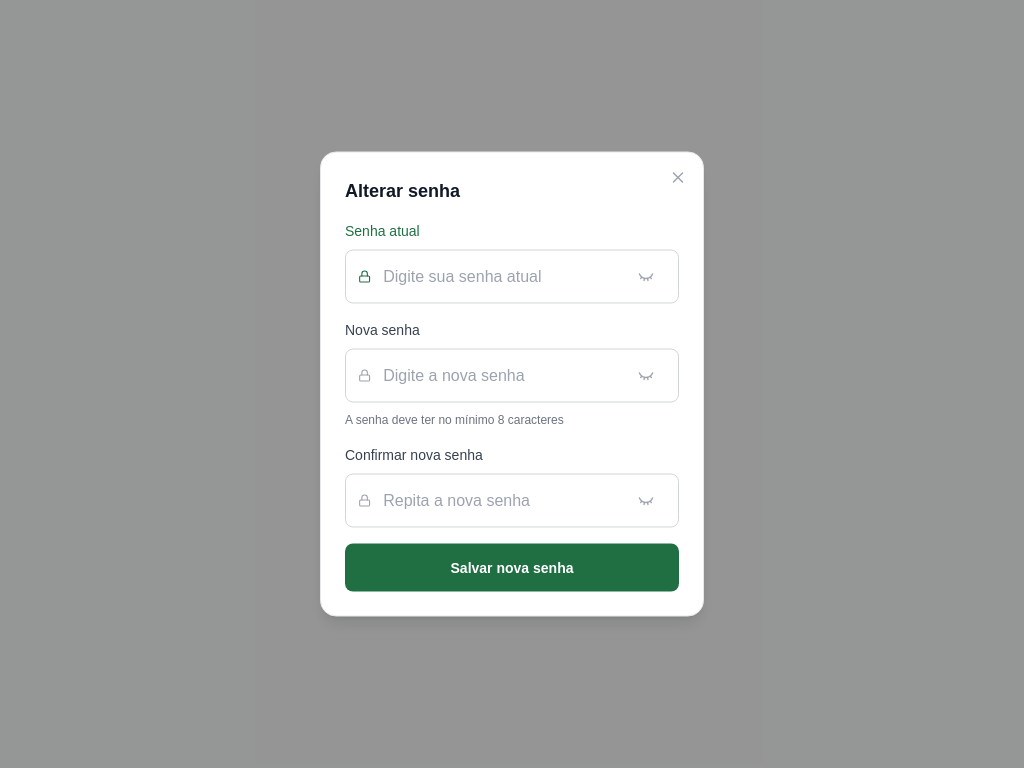
it: ChangePasswordDialog › mostra os erros de validação ao submeter vazio
Click the button "Salvar nova senha": (512, 568) 345,544 -> 679,592
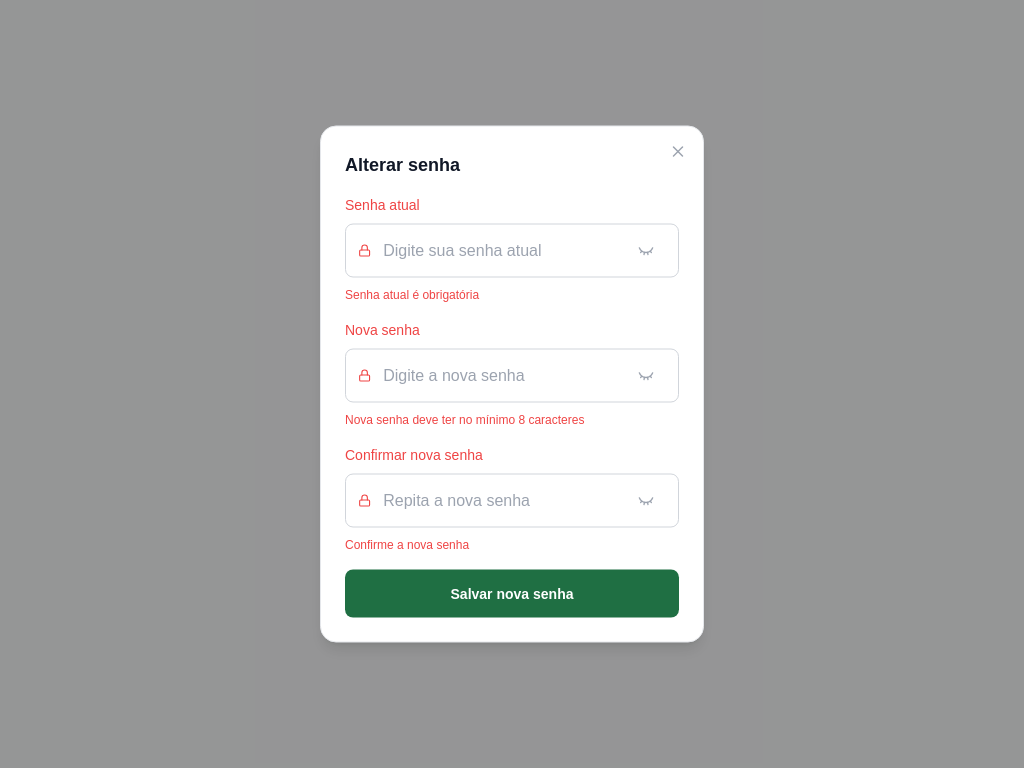
Expected: the text "Senha atual é obrigatória" is shown, 345,288 -> 479,302
Expected: the text "Nova senha deve ter no mínimo 8 caracteres" is shown, 345,412 -> 584,426
Expected: the text "Confirme a nova senha" is shown, 345,538 -> 469,552
